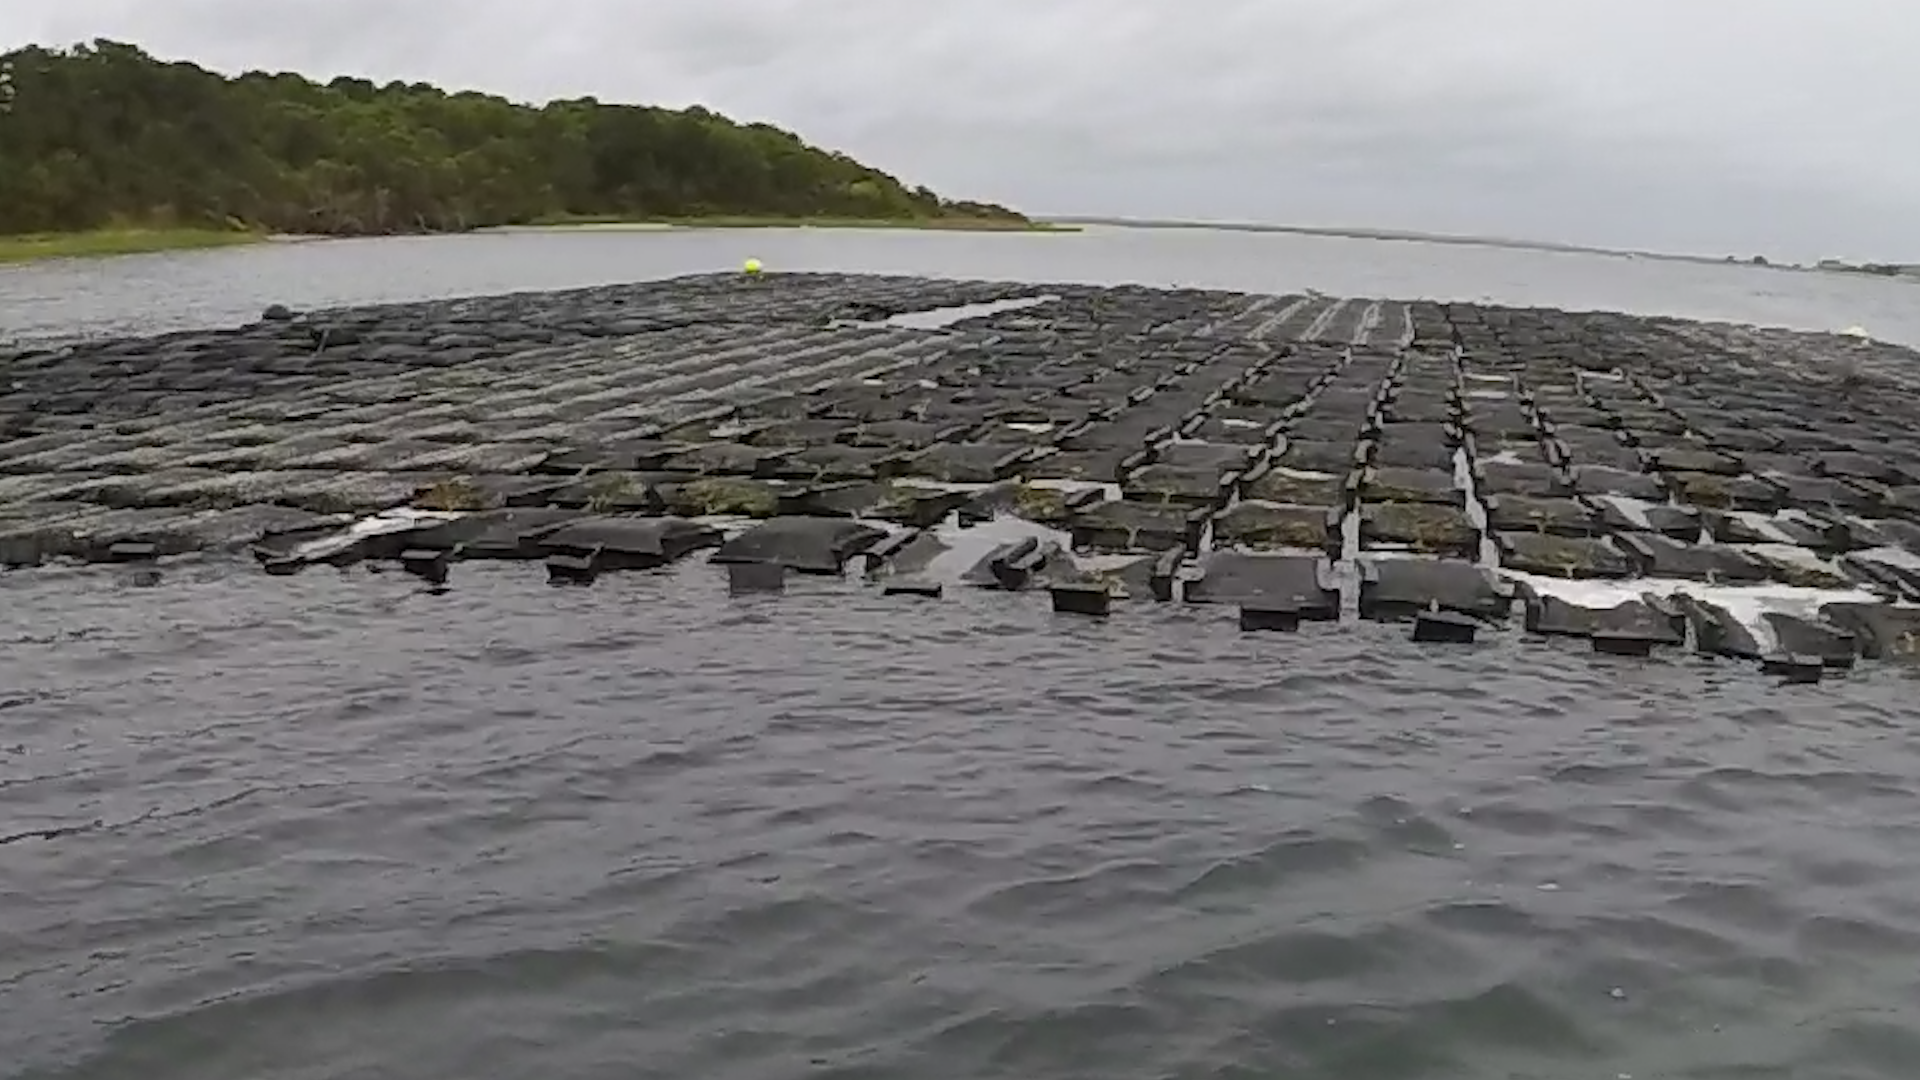bag: (1193, 545, 1349, 616), (705, 513, 887, 568), (1360, 547, 1506, 613)
